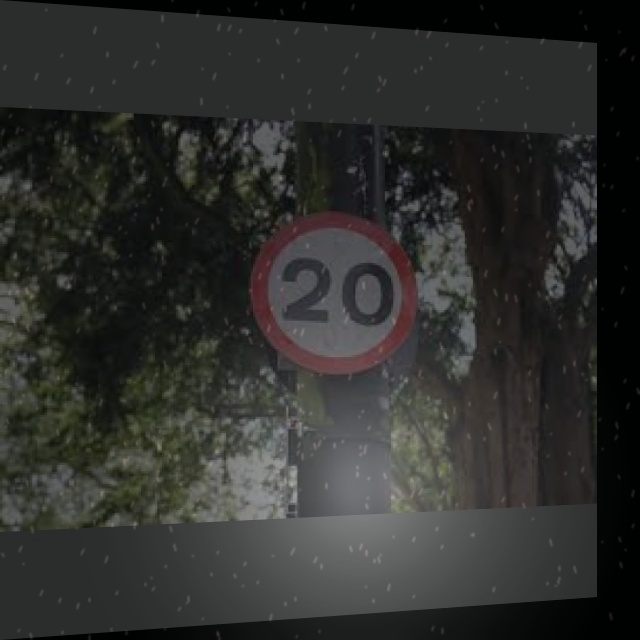Speed_Limit_20: (247, 211, 422, 374)
